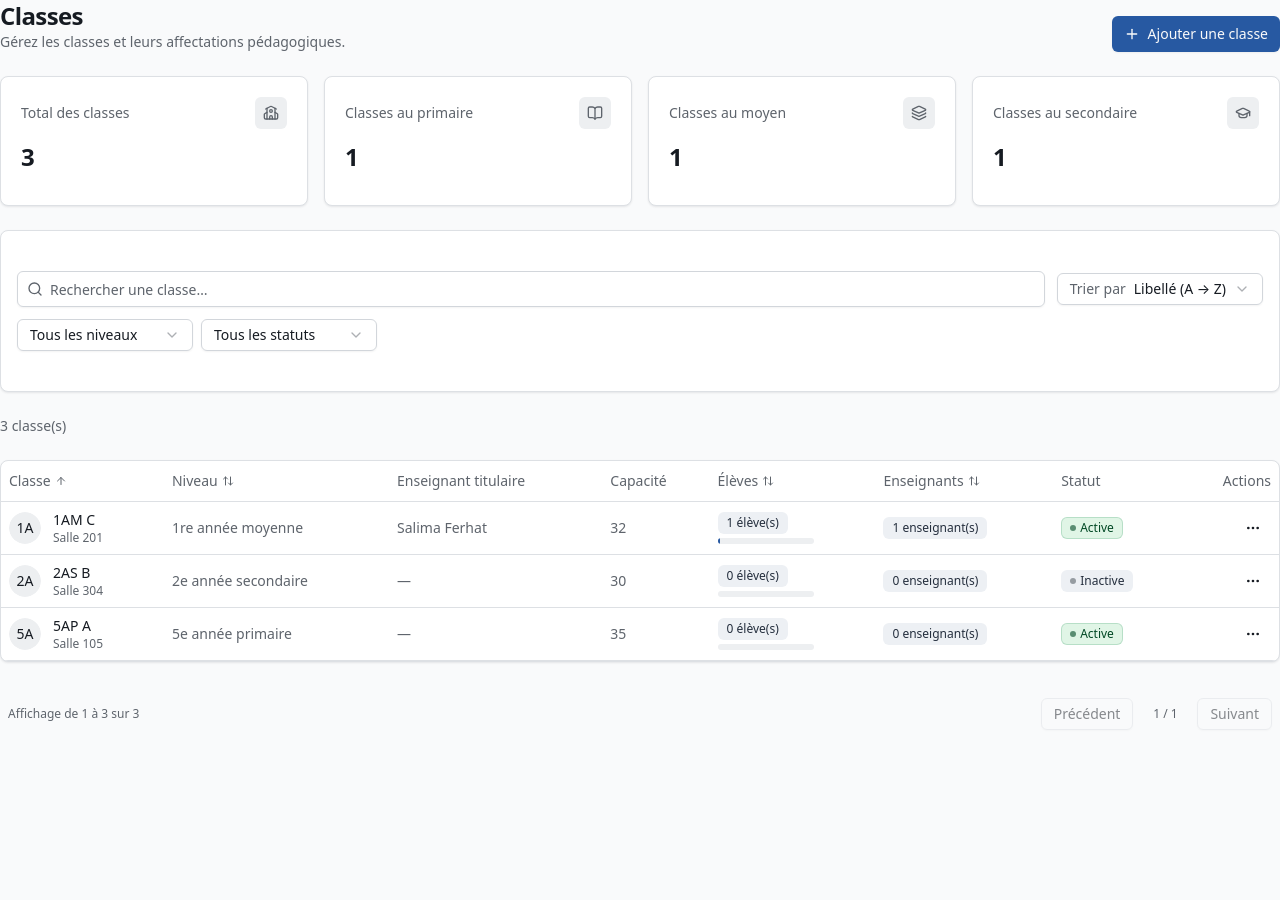
Test: ClassesPage › edits a class through the form sheet
The width and height of the screenshot is (1280, 900).
Check: the link "1AM C" is shown, box 53,510 -> 95,528
Click the button named "Actions" in the row of "1AM C": (1253, 528) 1235,510 -> 1271,546
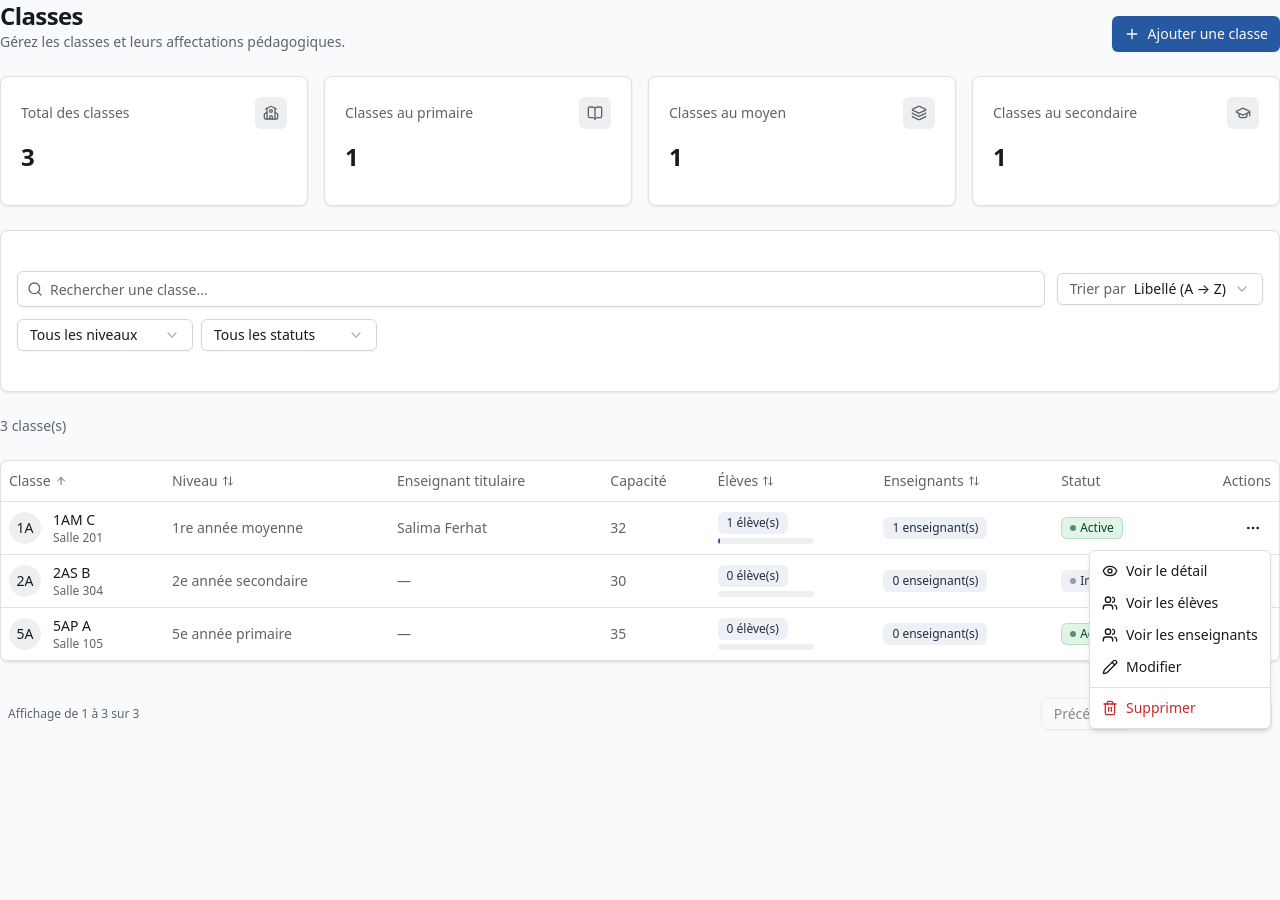
Click the menu item "Modifier": (1142, 666) 1102,657 -> 1182,676
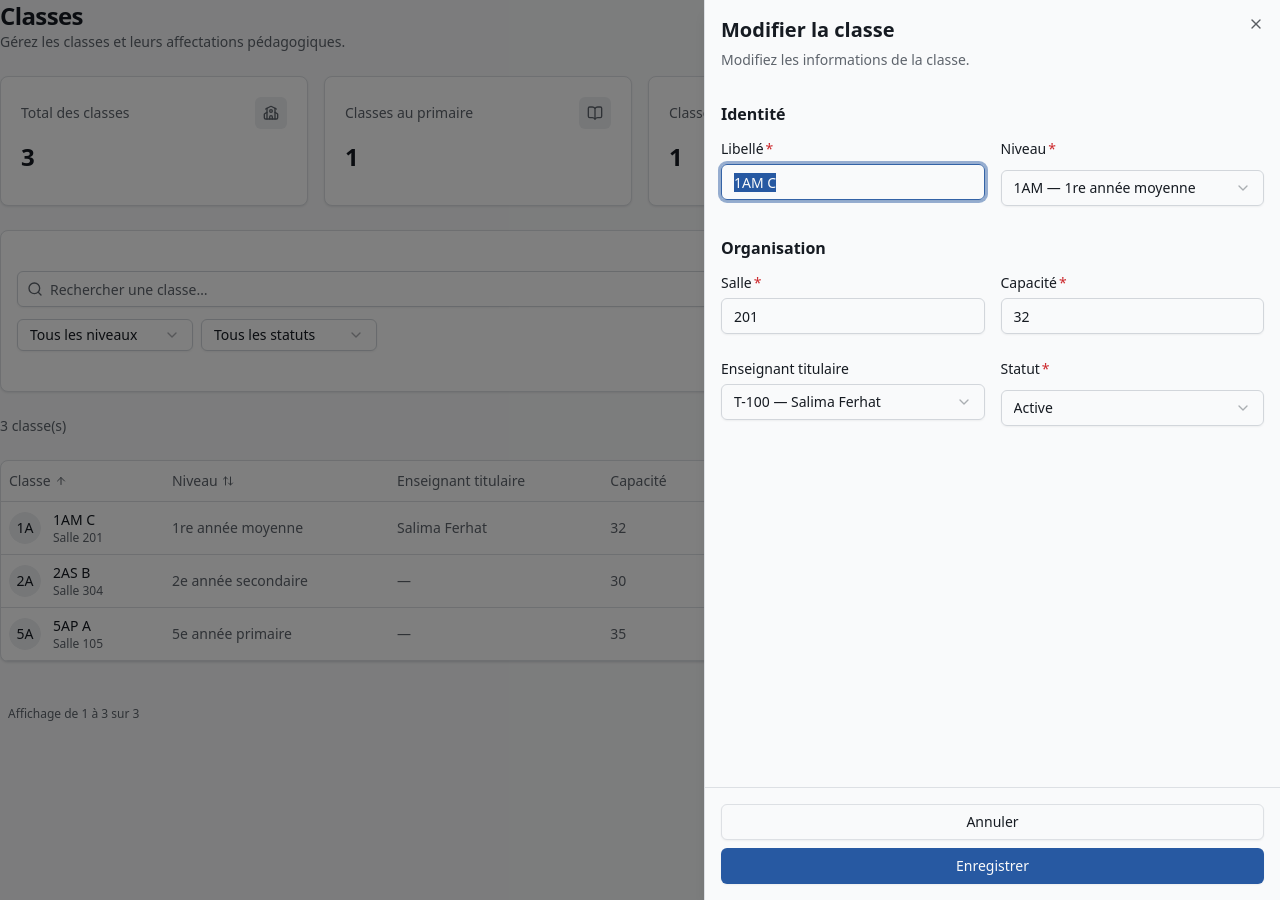
Check: the heading "Modifier la classe" is shown, box 721,16 -> 894,43
Check: the field labelled "Libellé*" holds "1AM C"
Replace the text in the field labelled "Libellé*" with "1AM D": (853, 182) 721,164 -> 984,200
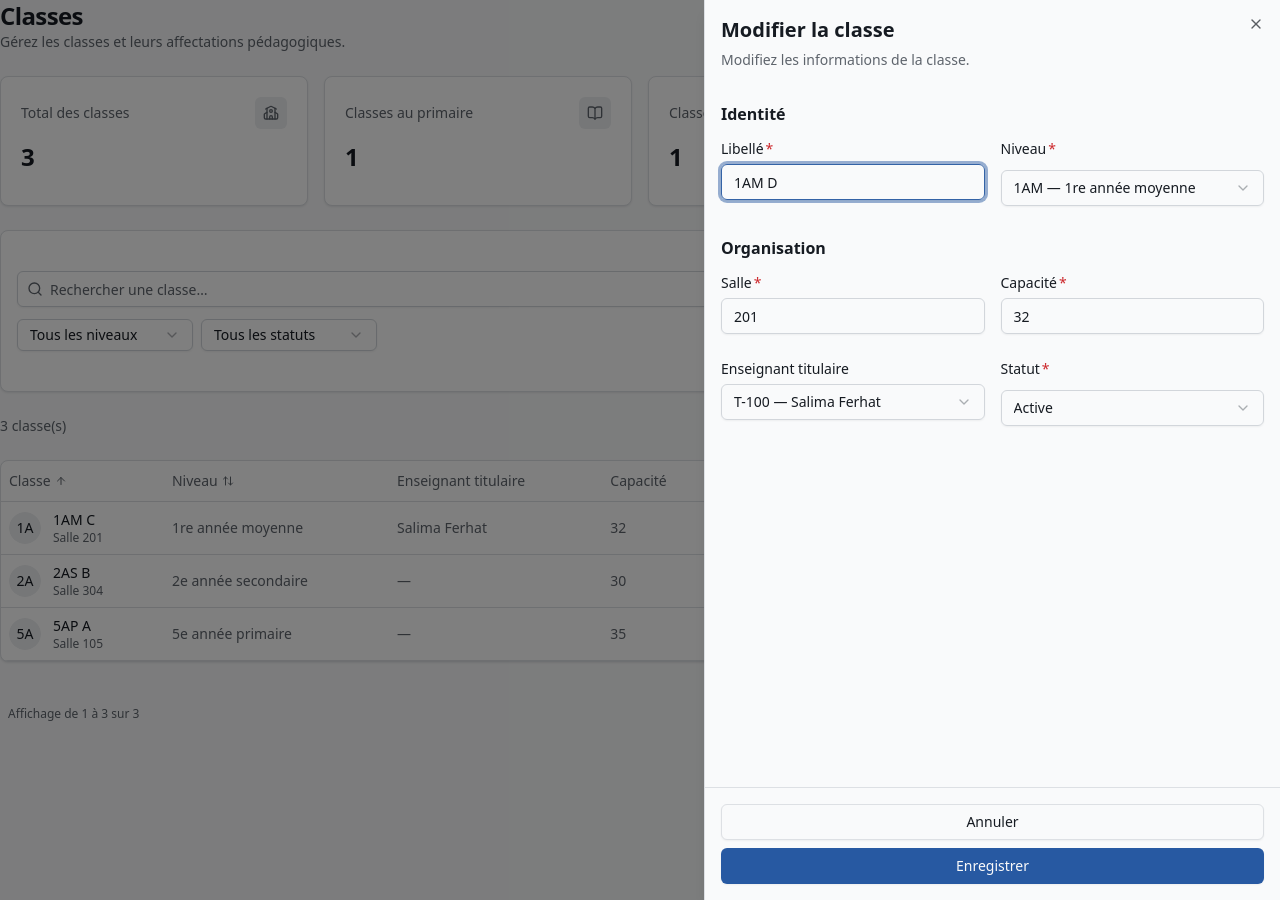
Click the button "Enregistrer": (992, 866) 721,848 -> 1264,884
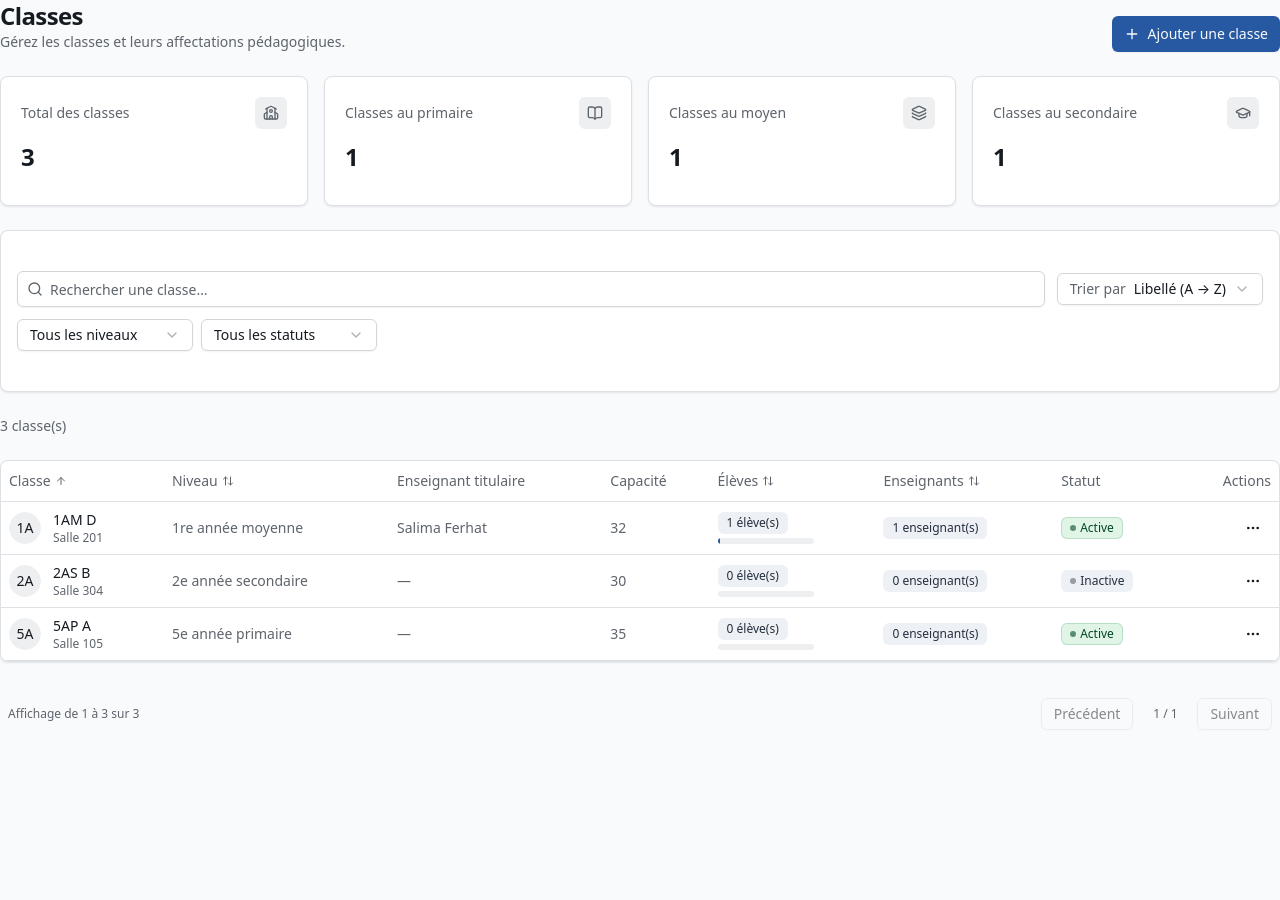
Check: the link "1AM D" is shown, box 53,510 -> 96,528
